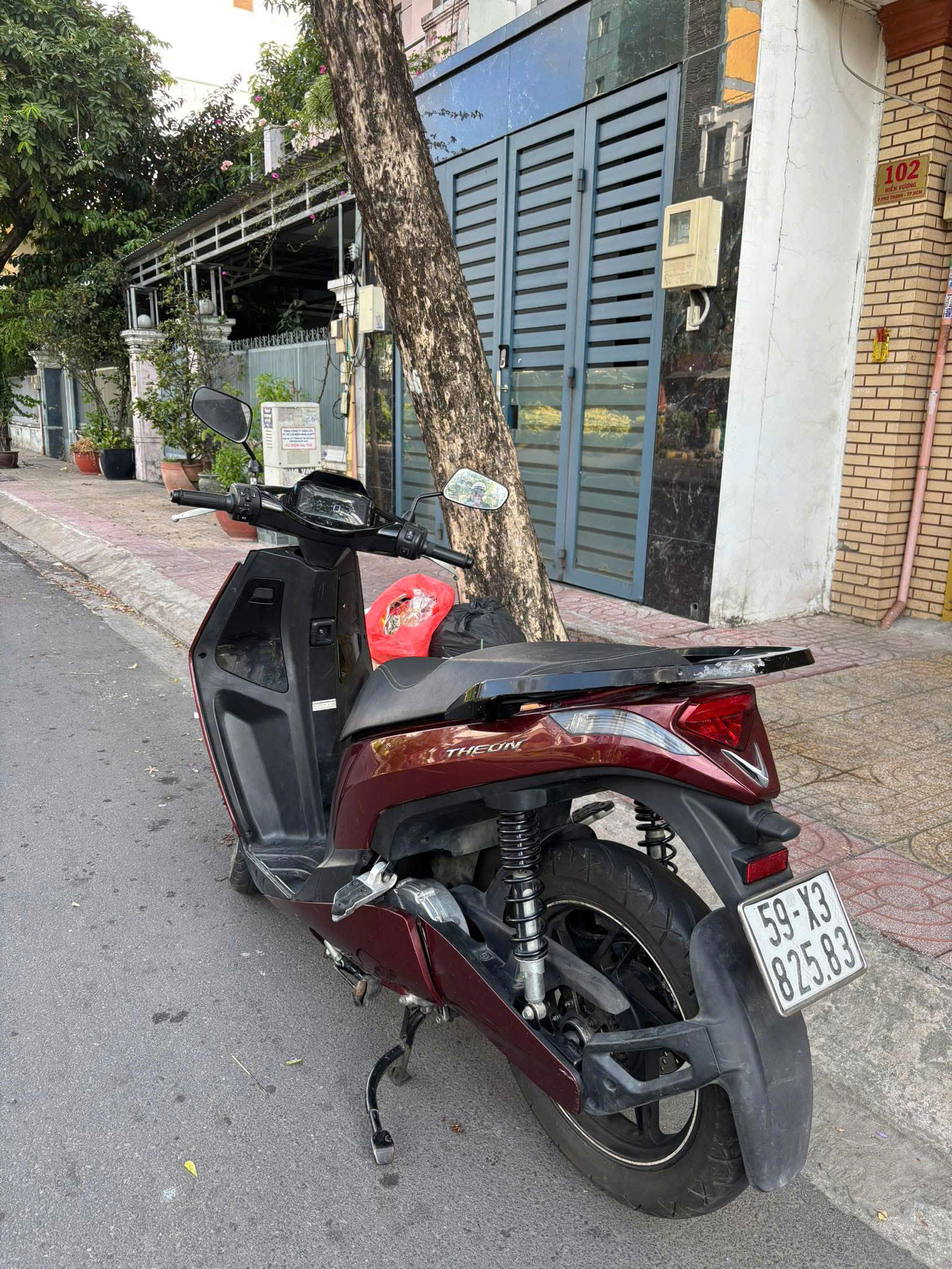Bien-so: (746, 867, 870, 1023)
